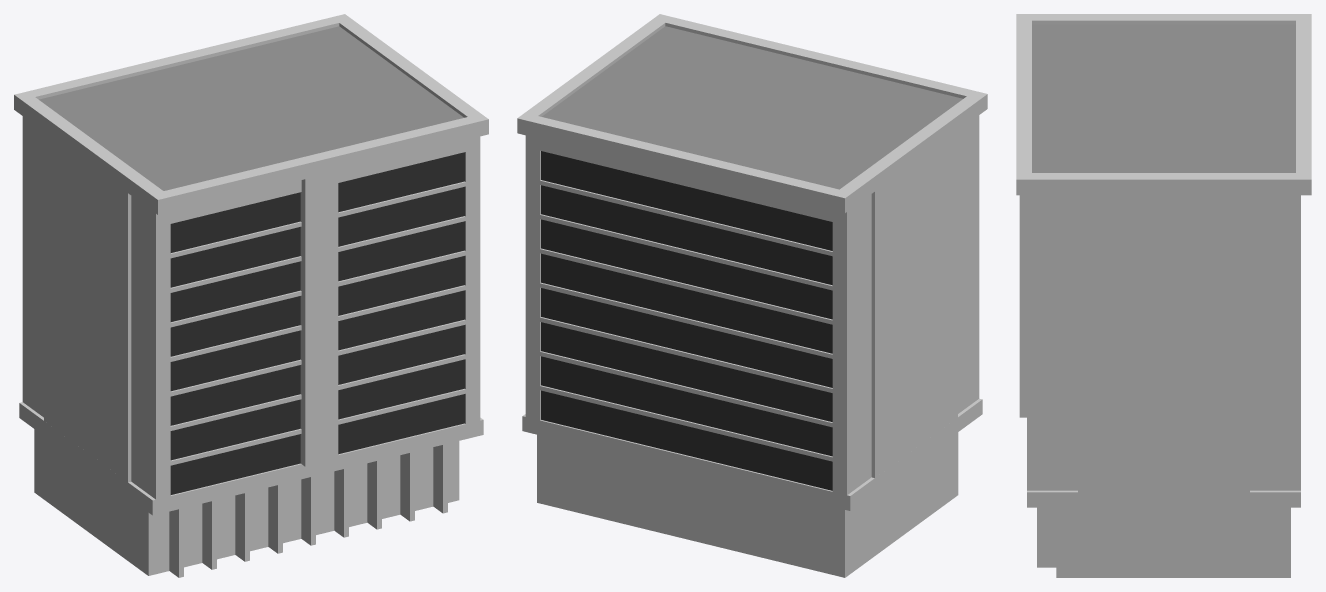
The model's file is spw-urban-bldg-08.glb.
The picture shows the model from 3 angles, left to right: view 1: azimuth 30°, elevation 25°; view 2: azimuth 150°, elevation 25°; view 3: azimuth 270°, elevation 25°; orthographic projection. The views are drawn at different scales.
Visible parts, largest first — view 1: SPW_Urban_Bldg_08; view 2: SPW_Urban_Bldg_08; view 3: SPW_Urban_Bldg_08.
Part boxes in pixels (x1,y1,x2,y2): SPW_Urban_Bldg_08: [14, 14, 488, 577]; SPW_Urban_Bldg_08: [517, 14, 987, 577]; SPW_Urban_Bldg_08: [1016, 14, 1311, 577].
Size of the model in its own units: 20.05 by 22.75 by 15.1.
1 material, 1 textured.
